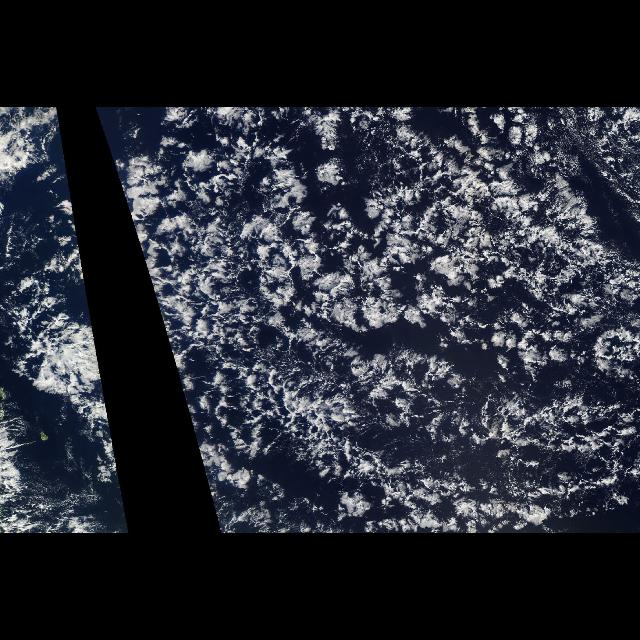Fish: (139, 250, 639, 512)
Flower: (128, 158, 488, 340)
